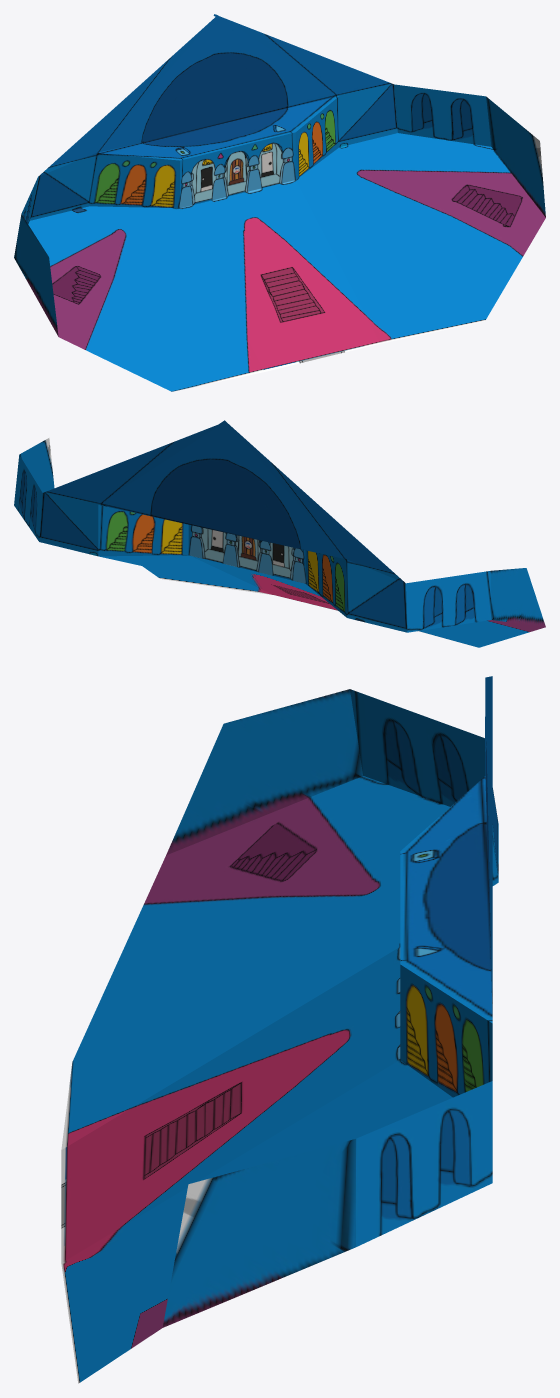
File: mainroom2.fbx
3 renders of one model, top to bottom at view 1: azimuth 30°, elevation 25°; view 2: azimuth 150°, elevation 25°; view 3: azimuth 270°, elevation 25°, orthographic. The views are drawn at different scales.
Parts seen in each view (by area): view 1: Plane.002, Plane; view 2: Plane, Plane.002; view 3: Plane.002, Plane.
Boxes of the visible parts, <box> form: Plane.002: <box>28,133,545,391</box>; Plane: <box>14,14,545,336</box>; Plane: <box>14,420,545,632</box>; Plane.002: <box>99,555,545,647</box>; Plane.002: <box>61,776,452,1383</box>; Plane: <box>162,676,498,1327</box>.
Bounding box in the file's own units: 2492 × 1332 × 969.
